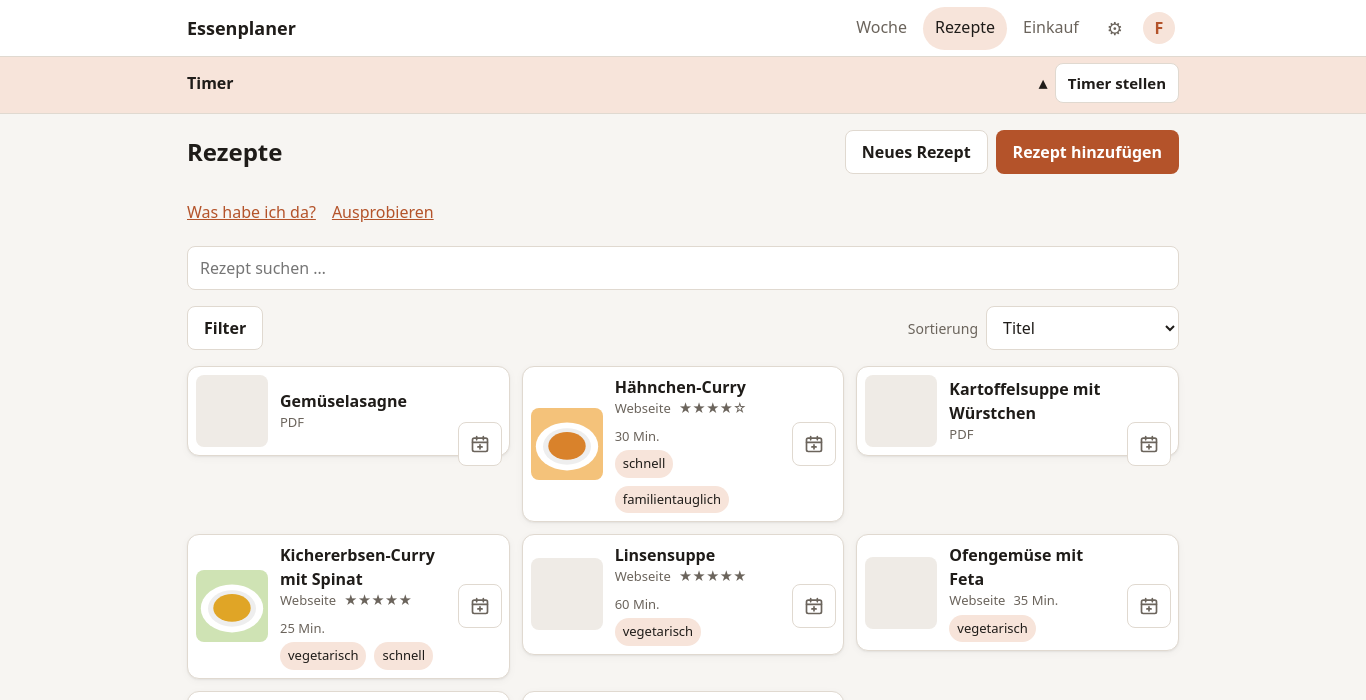
Scenario: Rezept per URL importieren › zeigt Fehler im Dialog und behält die URL
Step 1. Click the button "Rezept hinzufügen" → click(1087, 152), box top-left (996, 130), bottom-right (1179, 174)
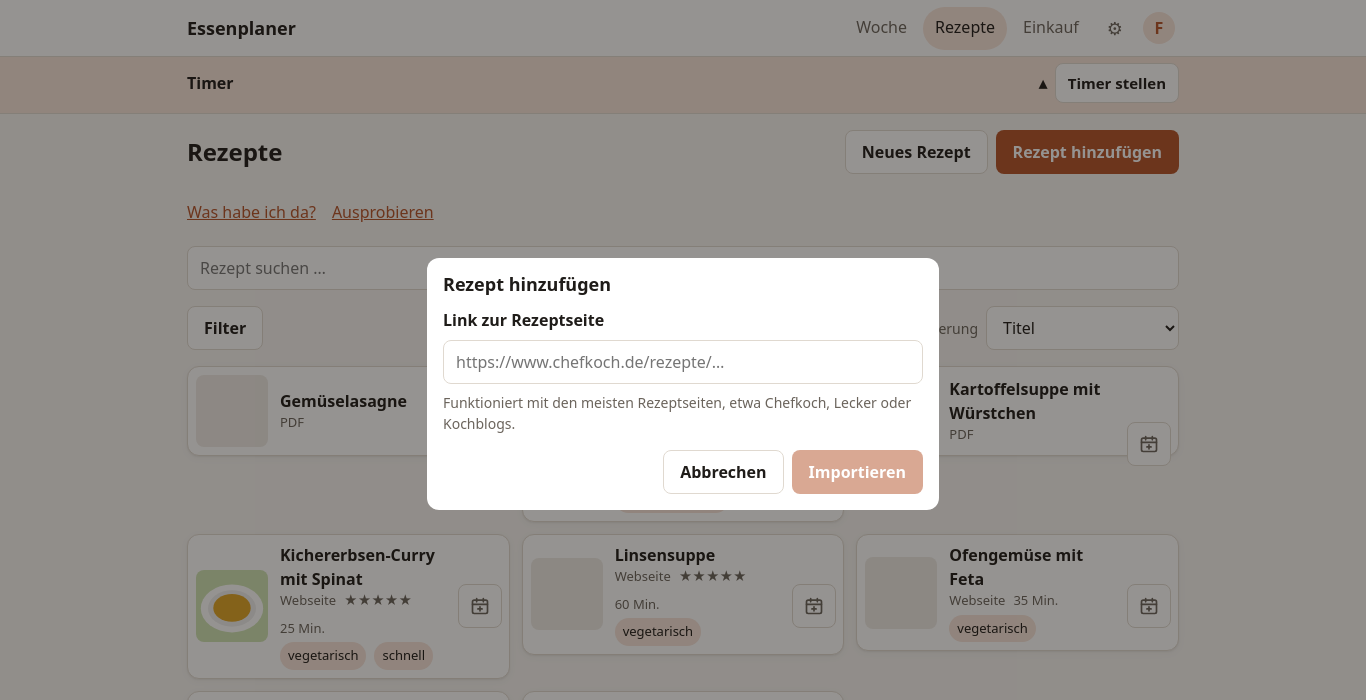
Step 2. Type "https://example.com/keine-rezeptdaten" into the field labelled "Link zur Rezeptseite" → (683, 362), box top-left (443, 340), bottom-right (923, 384)
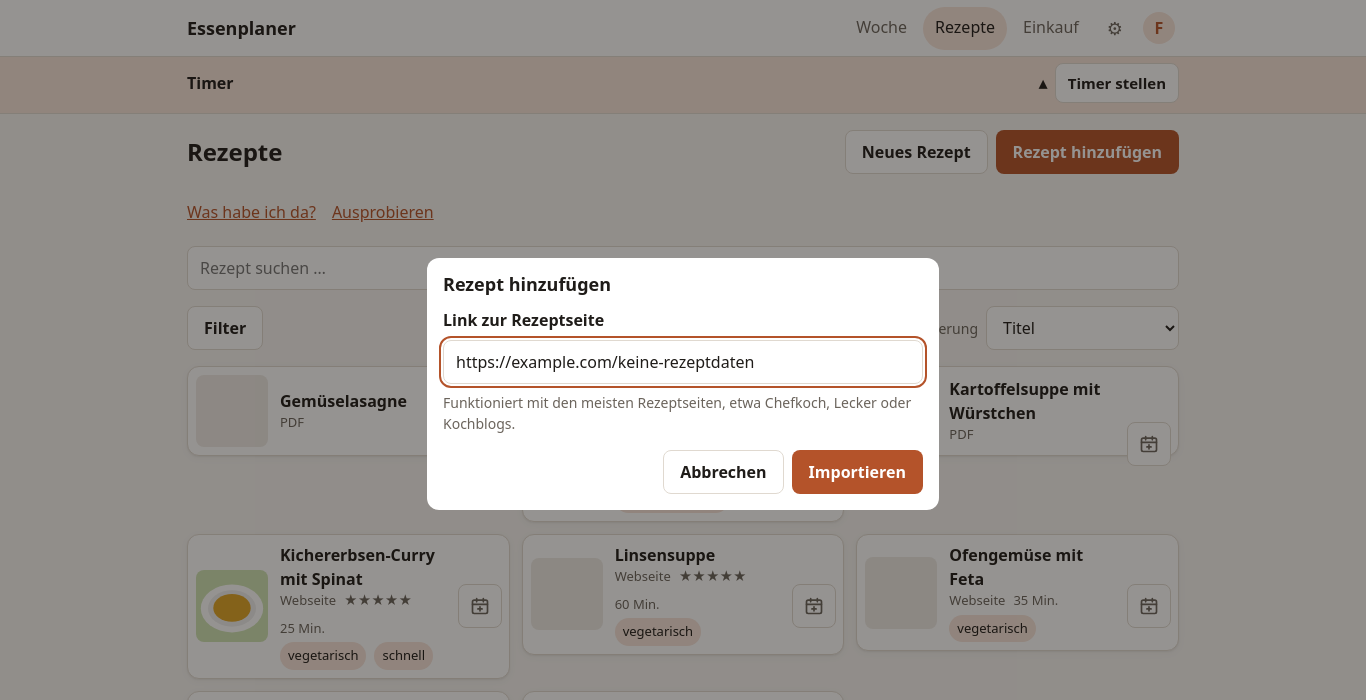
Step 3. Click the button "Importieren" → click(857, 472), box top-left (792, 450), bottom-right (923, 494)
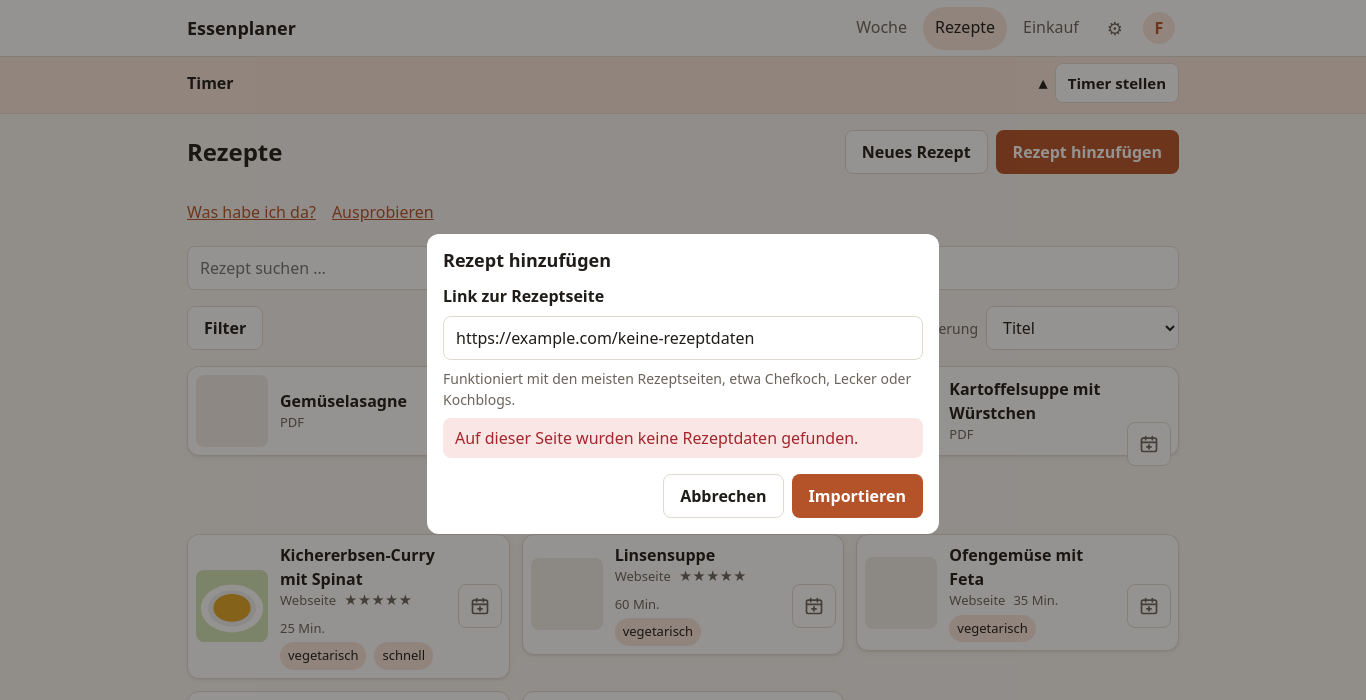
Now the button "Importieren" is enabled, box top-left (792, 474), bottom-right (923, 518)
Now the message reads "Auf dieser Seite wurden keine Rezeptdaten gefunden.", box top-left (455, 427), bottom-right (858, 449)
